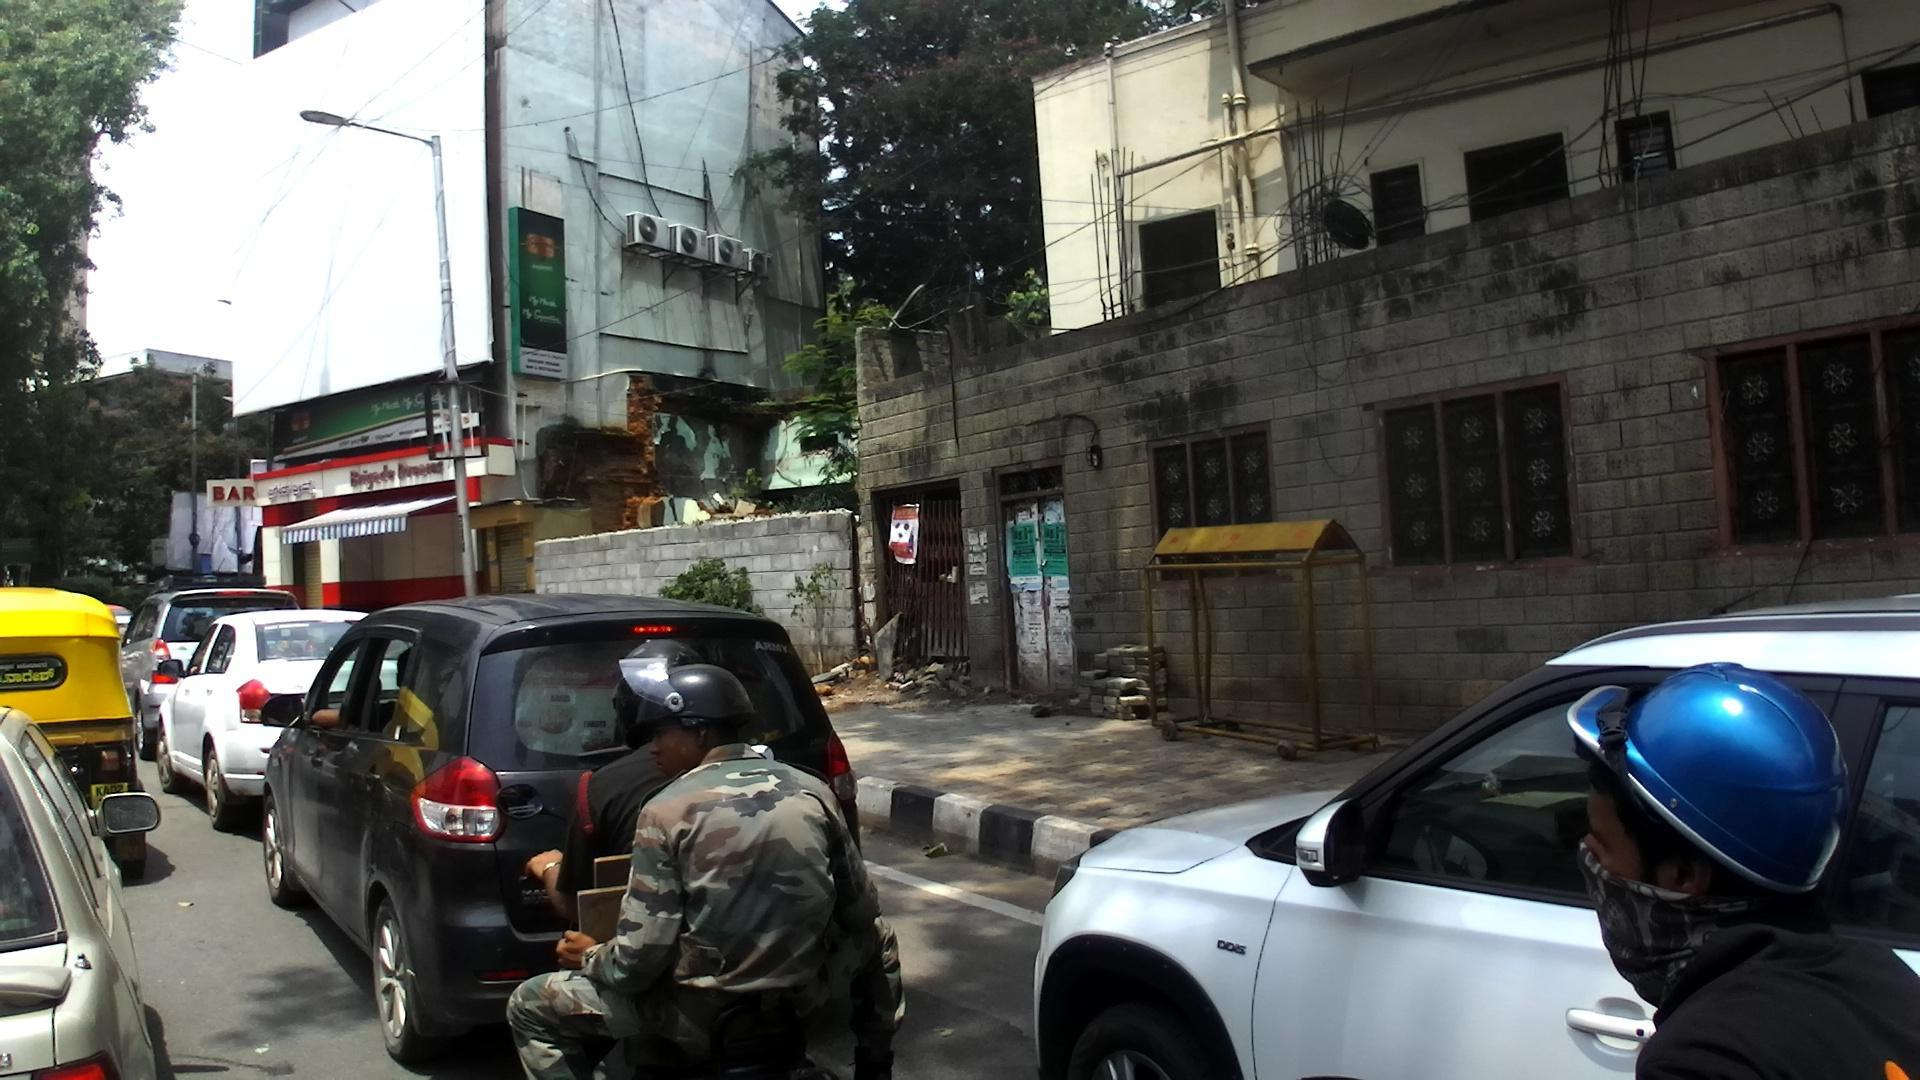off: (0, 0, 1815, 1080)
